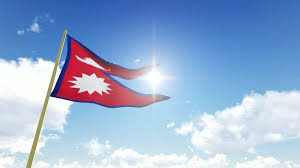Flag: (51, 35, 171, 108)
